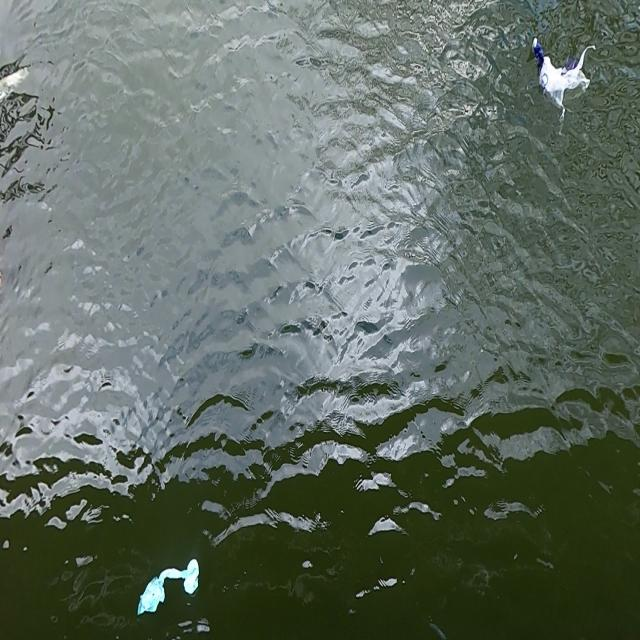Sac plastique: (527, 34, 601, 134), (135, 556, 204, 627)
